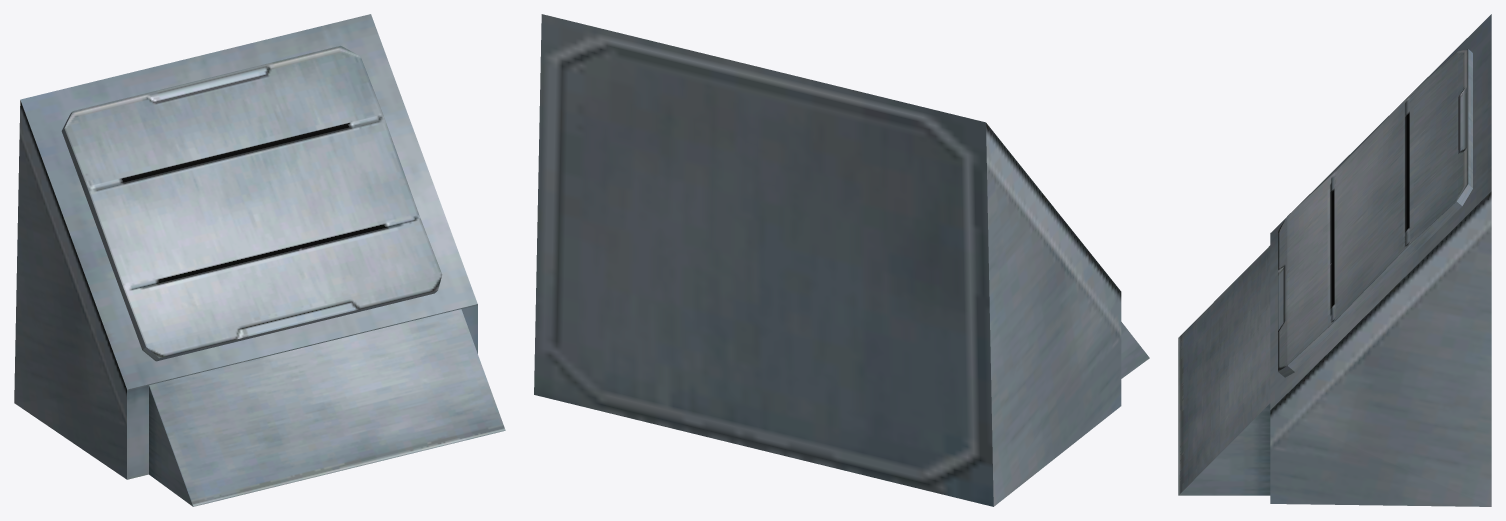
The model's file is frn_all_tech_chest_s01_l1.fbx.
The picture shows the model from 3 angles, left to right: view 1: azimuth 30°, elevation 25°; view 2: azimuth 150°, elevation 25°; view 3: azimuth 270°, elevation 25°; orthographic projection. The views are drawn at different scales.
Visible parts, largest first — view 1: mesh_node; view 2: mesh_node; view 3: mesh_node.
Boxes of the visible parts, left/top/right/bottom form: mesh_node: left=14, top=14, right=505, bottom=506; mesh_node: left=534, top=14, right=1149, bottom=506; mesh_node: left=1178, top=14, right=1491, bottom=506.
Size of the model in its own units: 0.9426 by 0.7499 by 0.6803.
